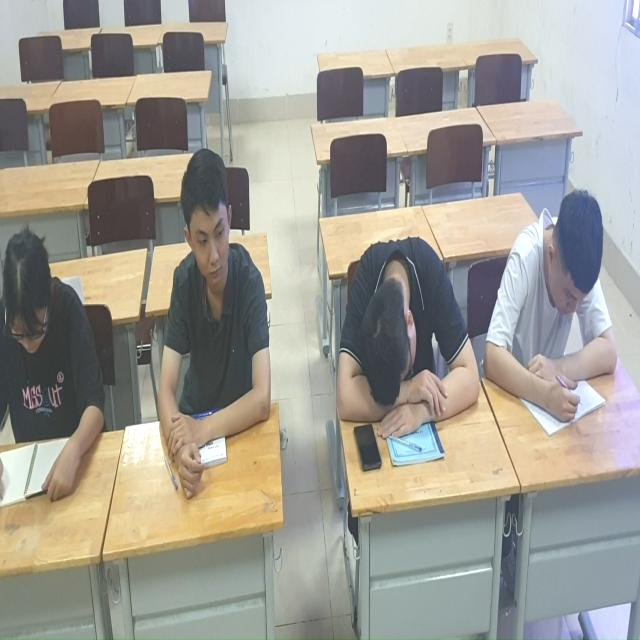read: (157, 143, 280, 503), (490, 171, 625, 433), (1, 175, 109, 498)
sleep: (335, 228, 486, 434)
